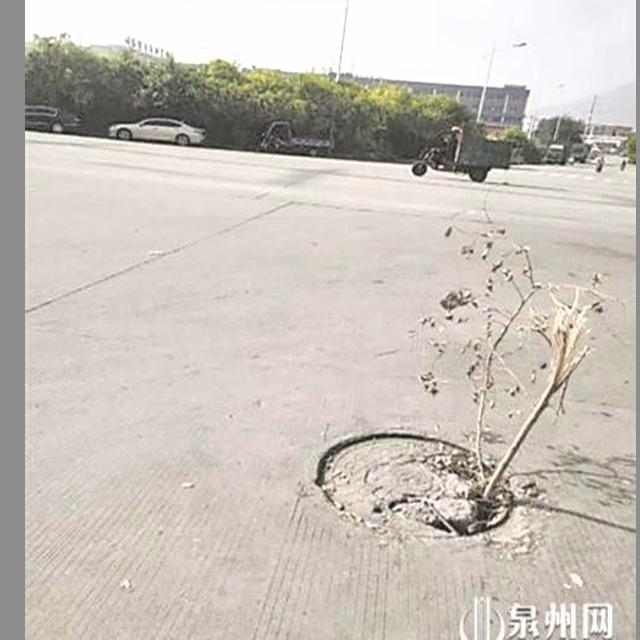broke: (292, 406, 537, 568)
